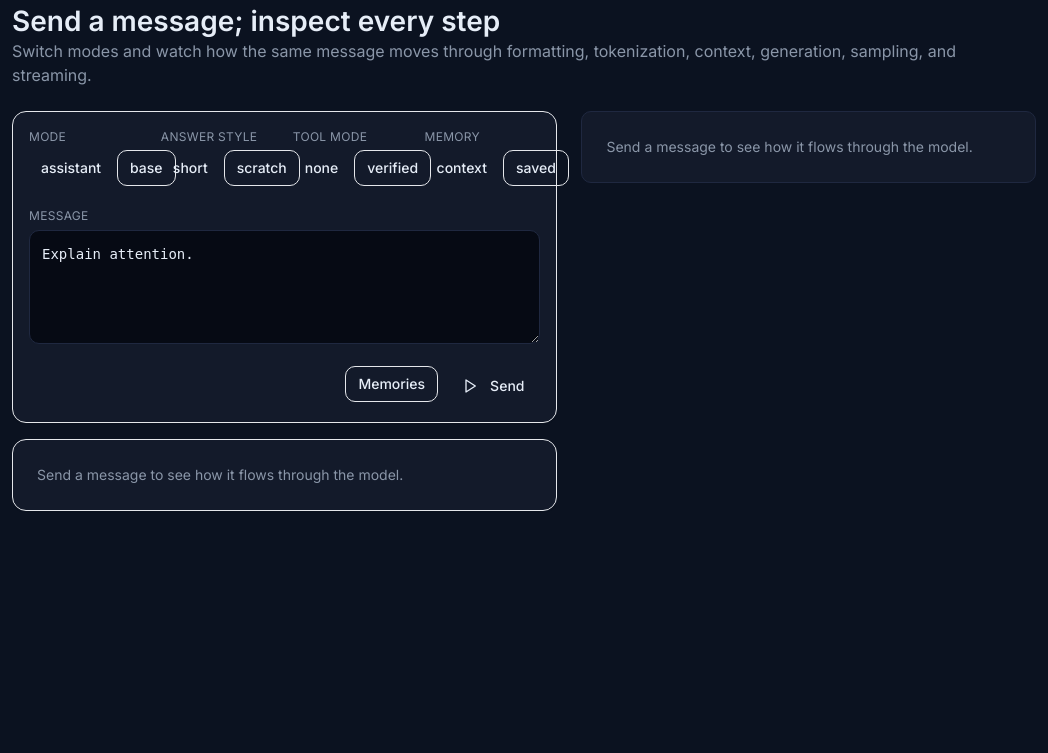
Scenario: ChatPlayground › sending a message populates the trace timeline and the reply
Click the button "Send". click: (493, 386)
box: x1=446 y1=366 x2=540 y2=406
(page scrolled)
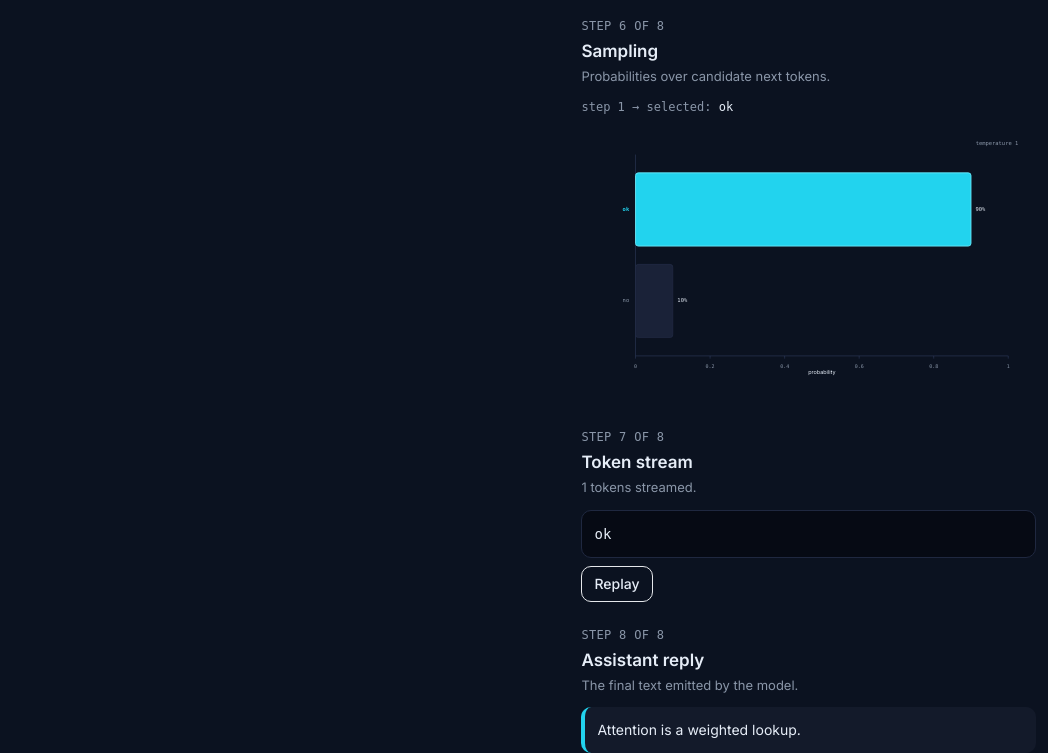
Expected: the heading "Token stream" is shown, x1=582 y1=452 x2=693 y2=472
